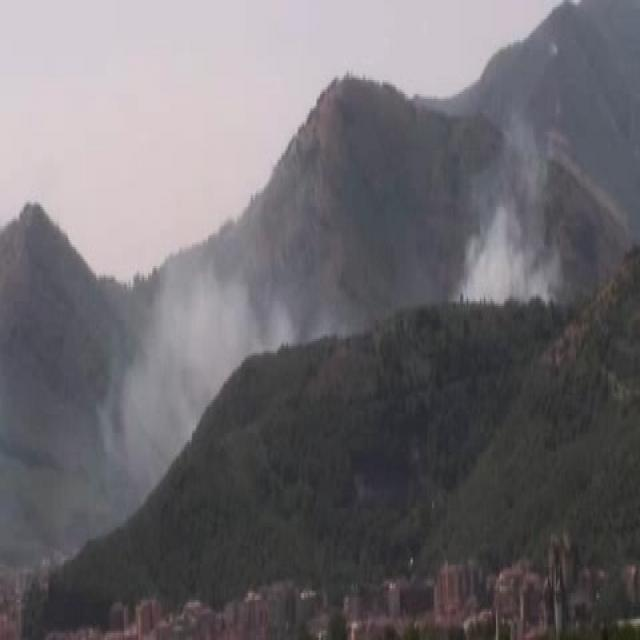smoke: (124, 248, 273, 430), (459, 136, 547, 301)
